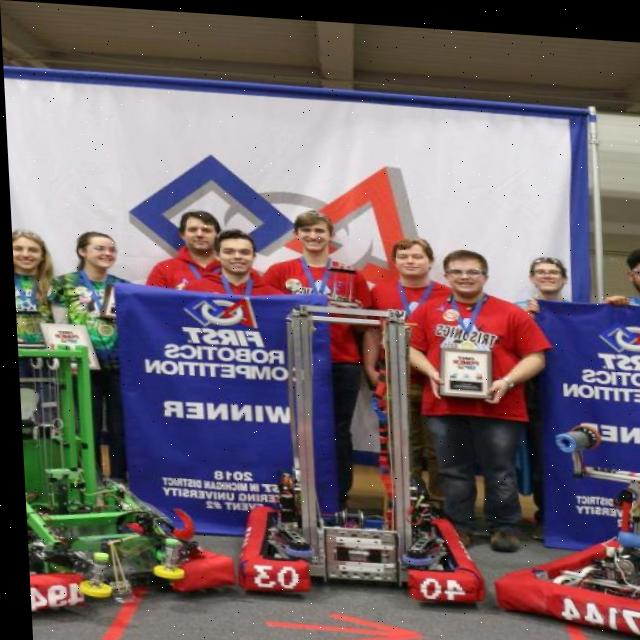robot: (225, 299, 480, 606), (14, 331, 228, 623), (479, 423, 640, 637)
